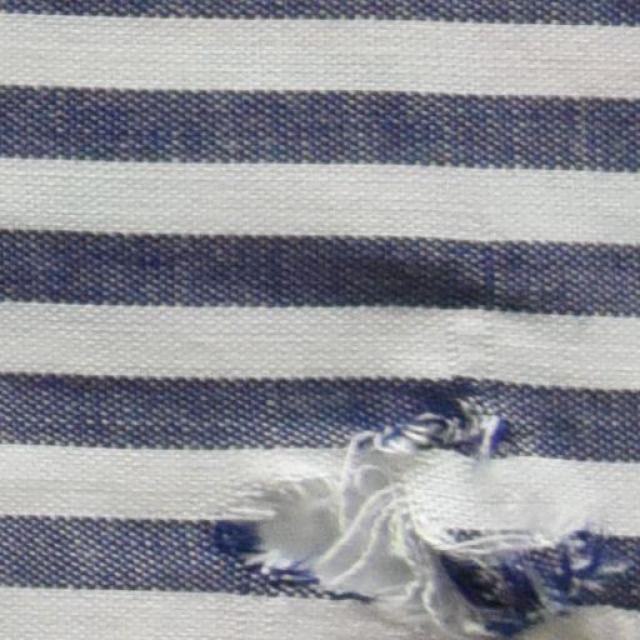cut: (232, 405, 596, 636)
